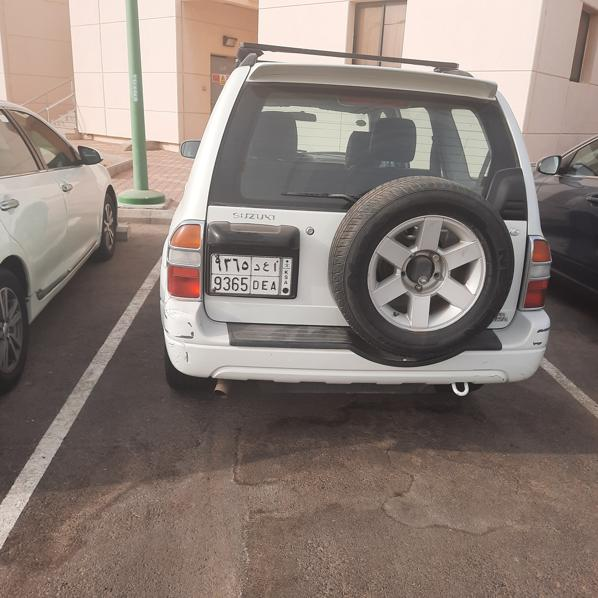numberplate: (211, 254, 293, 298)
